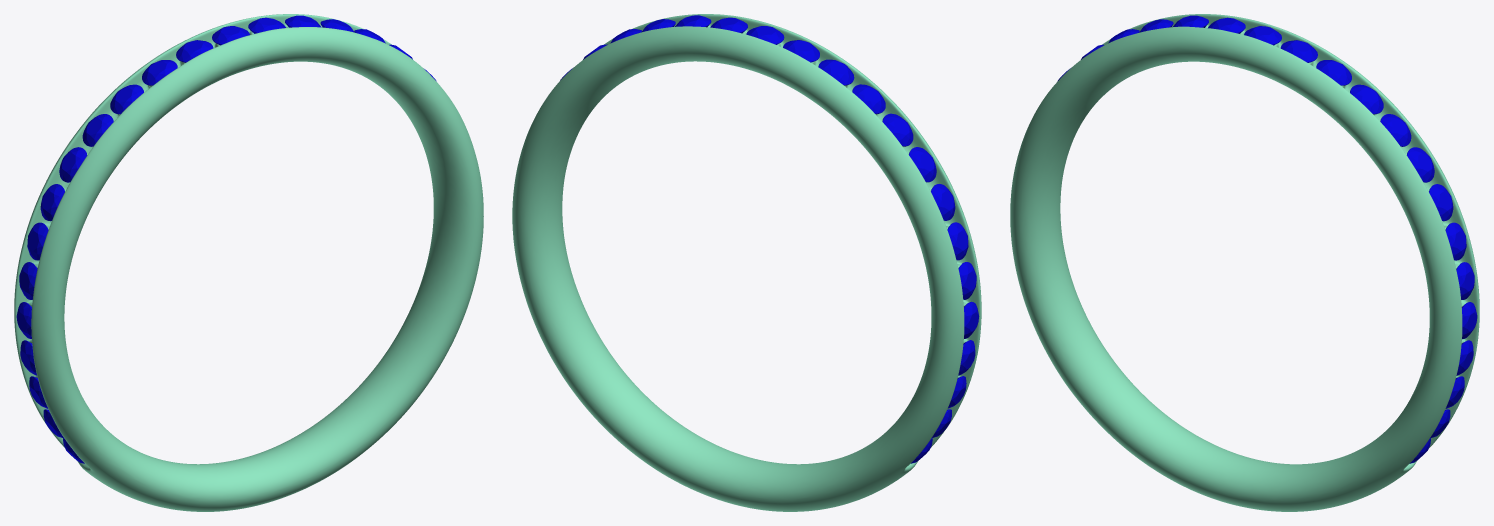
3 views of the same model, side by side, from view 1: azimuth 30°, elevation 25°; view 2: azimuth 150°, elevation 25°; view 3: azimuth 330°, elevation 25° (orthographic).
Visible parts, largest first — view 1: Metal03, Diamond_Band.008, Diamond_Band.009, Diamond_Band.010, Diamond_Band.007, Diamond_Band.011, Diamond_Band.006, Diamond_Band.012; view 2: Metal03, Diamond_Band.009, Diamond_Band.008, Diamond_Band.007, Diamond_Band.010, Diamond_Band.011, Diamond_Band.006; view 3: Metal03, Diamond_Band.019, Diamond_Band.018, Diamond_Band.017, Diamond_Band.020, Diamond_Band.016, Diamond_Band.021, Diamond_Band.015.
Part boxes in pixels (<box>): Metal03: <box>14,14,483,511</box>; Diamond_Band.008: <box>59,147,87,182</box>; Diamond_Band.009: <box>82,114,113,146</box>; Diamond_Band.010: <box>110,84,143,114</box>; Diamond_Band.007: <box>40,184,64,221</box>; Diamond_Band.011: <box>142,60,177,85</box>; Diamond_Band.006: <box>27,222,48,260</box>; Diamond_Band.012: <box>176,40,213,62</box>; Metal03: <box>512,14,981,511</box>; Diamond_Band.009: <box>882,113,913,146</box>; Diamond_Band.008: <box>909,147,936,182</box>; Diamond_Band.007: <box>931,184,955,220</box>; Diamond_Band.010: <box>852,84,885,113</box>; Diamond_Band.011: <box>818,59,854,85</box>; Diamond_Band.006: <box>947,222,968,260</box>; Metal03: <box>1010,14,1479,511</box>; Diamond_Band.019: <box>1407,147,1434,182</box>; Diamond_Band.018: <box>1380,114,1411,146</box>; Diamond_Band.017: <box>1350,84,1383,114</box>; Diamond_Band.020: <box>1429,184,1453,221</box>; Diamond_Band.016: <box>1316,60,1351,85</box>; Diamond_Band.021: <box>1445,222,1466,260</box>; Diamond_Band.015: <box>1280,40,1317,62</box>.
Size of the model in its own units: 20.7 by 20.78 by 2.5.
